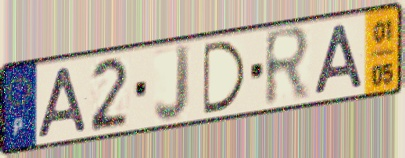2: (88, 55, 133, 136)
A: (34, 63, 90, 141), (312, 21, 367, 98)
D: (200, 38, 249, 118)
J: (151, 42, 193, 125)
R: (262, 23, 314, 112)
